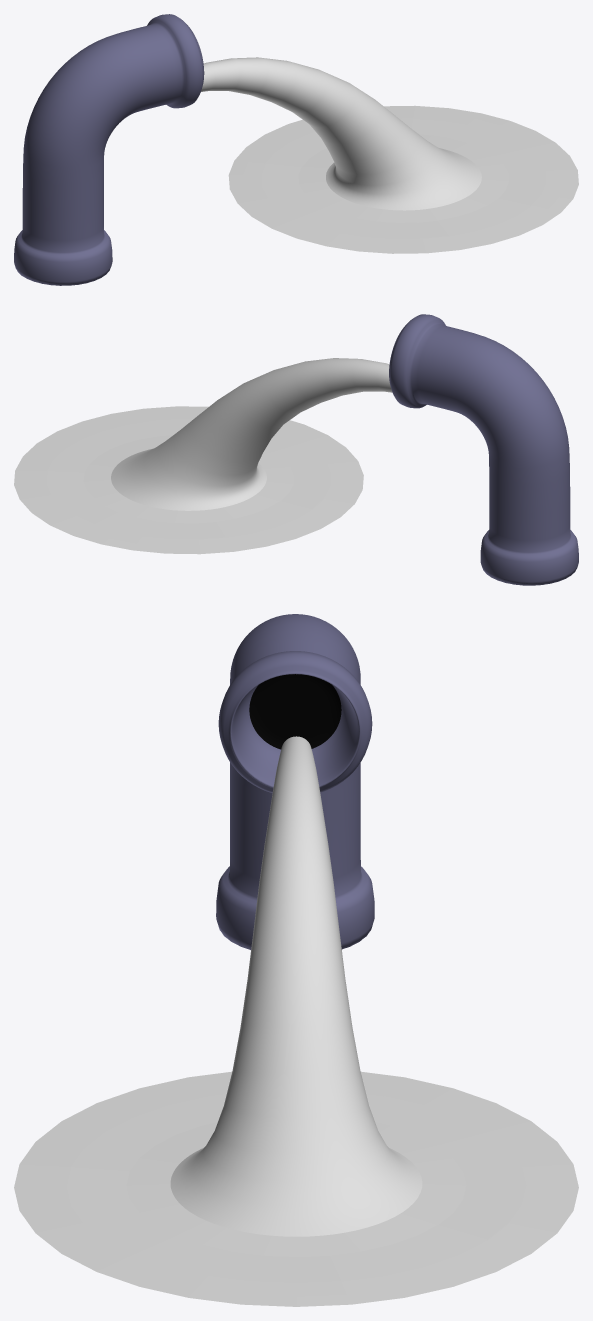
The model's file is Leaky_Pipe.fbx.
The picture shows the model from 3 angles, top to bottom: view 1: azimuth 30°, elevation 25°; view 2: azimuth 150°, elevation 25°; view 3: azimuth 270°, elevation 25°; orthographic projection. The views are drawn at different scales.
Parts seen in each view (by area): view 1: Puddle, Pipe, Liquid; view 2: Puddle, Pipe, Liquid; view 3: Puddle, Liquid, Pipe.
Part boxes in pixels (left/top/right/bottom): Puddle: left=228, top=105, right=578, bottom=253; Pipe: left=14, top=14, right=204, bottom=285; Liquid: left=201, top=57, right=481, bottom=210; Puddle: left=14, top=406, right=363, bottom=554; Pipe: left=389, top=314, right=578, bottom=585; Liquid: left=111, top=358, right=392, bottom=510; Puddle: left=14, top=1071, right=578, bottom=1306; Liquid: left=170, top=736, right=422, bottom=1236; Pipe: left=216, top=614, right=374, bottom=949.
Size of the model in its own units: 2081 by 825 by 1181.
